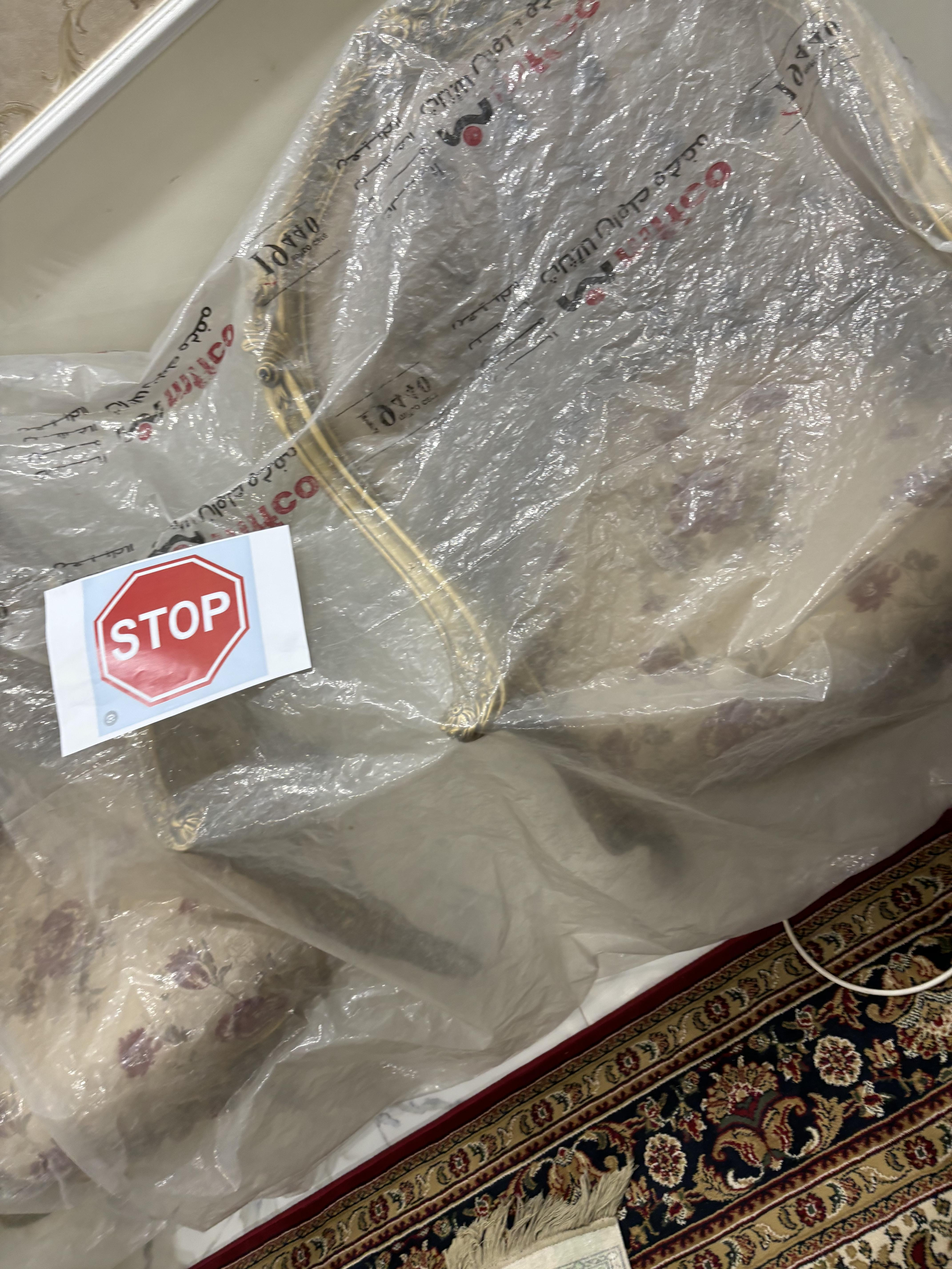Stop: (91, 553, 260, 709)
